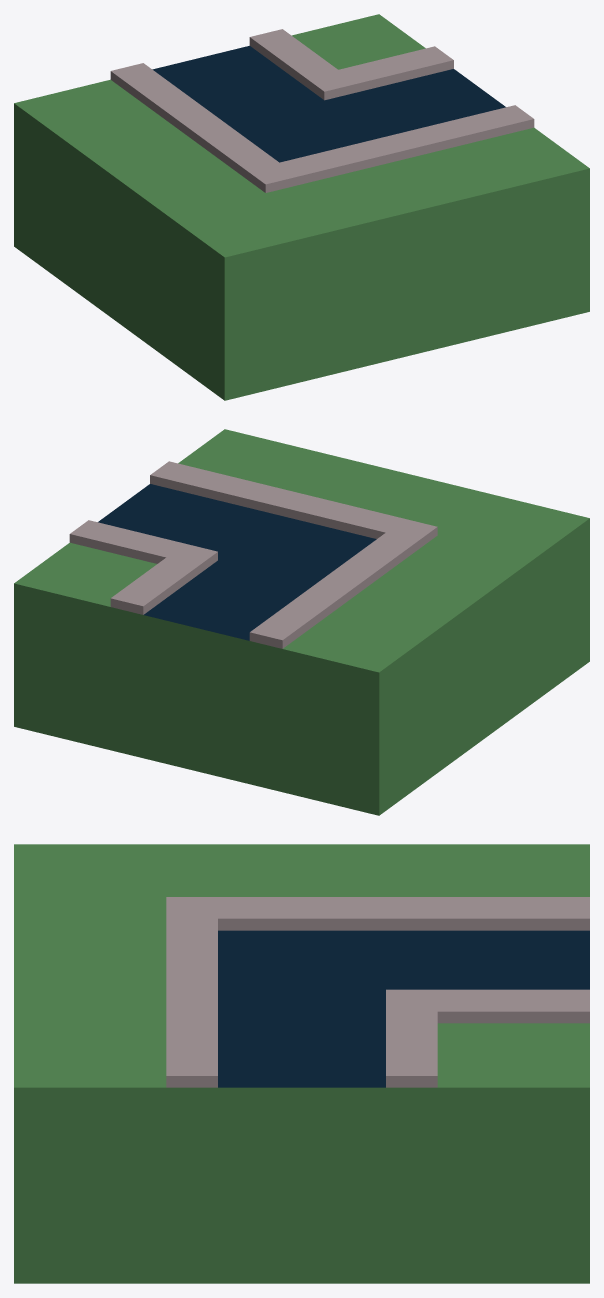
The model's file is Corner.fbx.
The picture shows the model from 3 angles, top to bottom: view 1: azimuth 30°, elevation 25°; view 2: azimuth 150°, elevation 25°; view 3: azimuth 270°, elevation 25°; orthographic projection. The views are drawn at different scales.
Parts seen in each view (by area): view 1: Cube.011; view 2: Cube.011; view 3: Cube.011.
Part boxes in pixels (x1,y1,x2,y2): Cube.011: [14, 14, 589, 400]; Cube.011: [14, 429, 589, 815]; Cube.011: [14, 844, 589, 1283].
Size of the model in its own units: 400 by 159 by 400.
